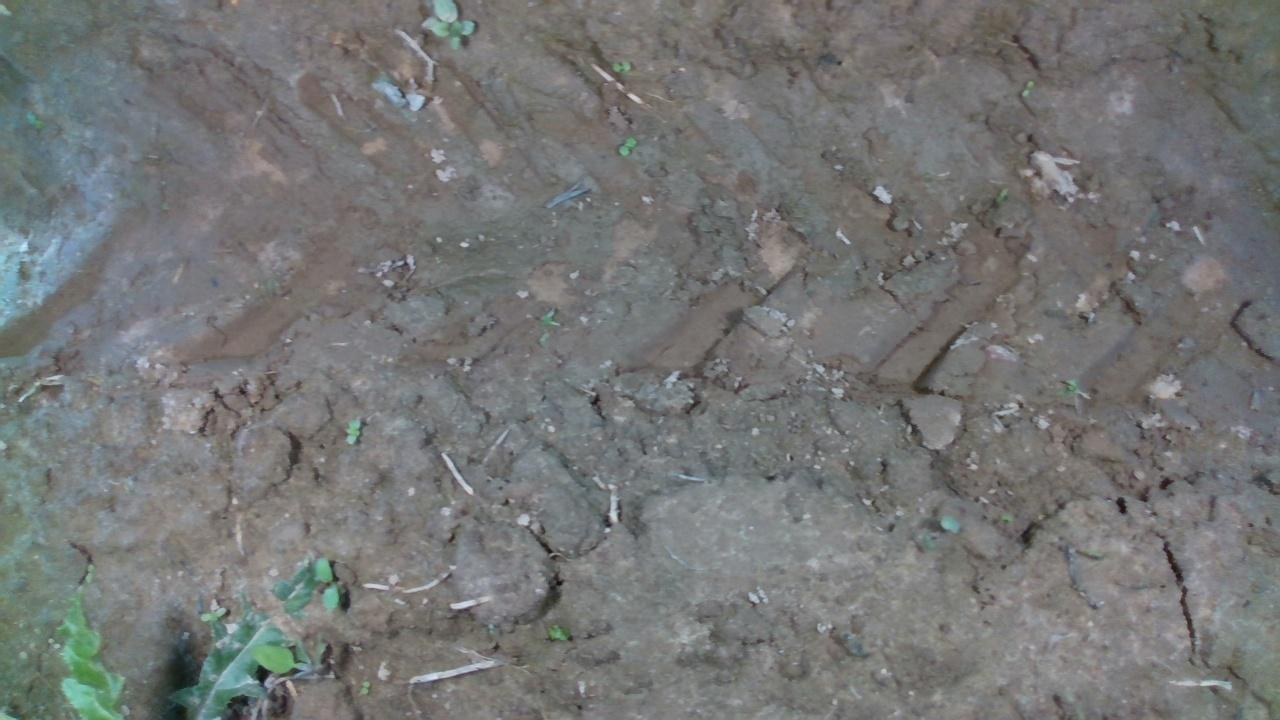weed: (312, 556, 340, 611), (342, 414, 361, 446), (197, 602, 227, 622), (616, 135, 637, 157), (609, 59, 631, 71), (1020, 79, 1034, 97), (83, 561, 93, 585)
